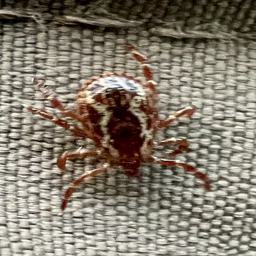Dermacentor variabilis: (29, 51, 213, 210)
